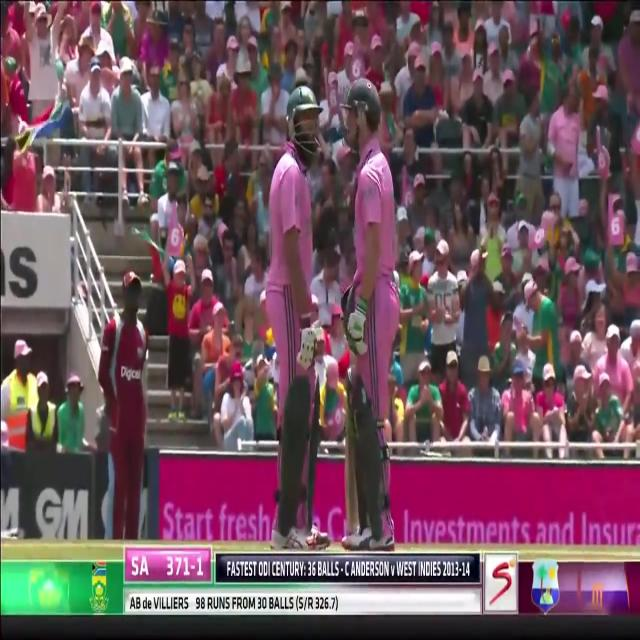Ball: (260, 83, 335, 550), (338, 82, 410, 551)
